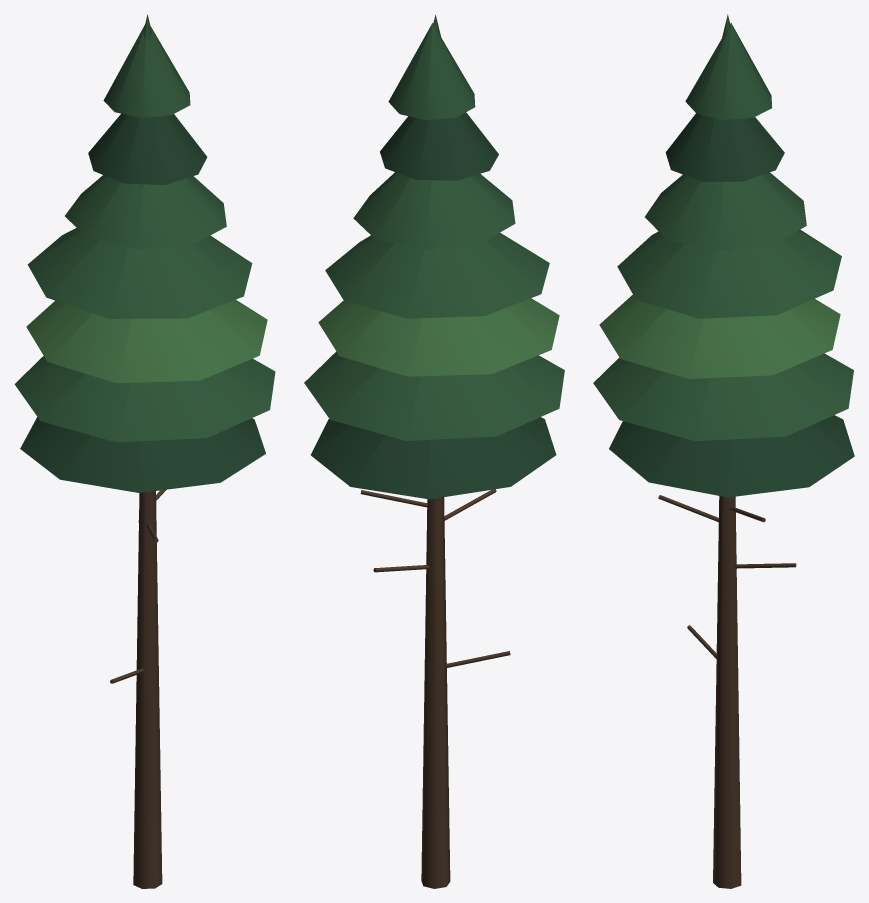
The model's file is EA05_conifer_pine.glb.
3 renders of one model, left to right at view 1: azimuth 30°, elevation 25°; view 2: azimuth 150°, elevation 25°; view 3: azimuth 270°, elevation 25°, orthographic.
Visible parts, largest first — view 1: branch_tier (×7), trunk; view 2: branch_tier (×7), trunk; view 3: branch_tier (×7), trunk.
Part boxes in pixels (x1,y1,x2,y2): branch_tier (×7): (14, 25, 275, 492); trunk: (133, 491, 162, 888); branch_tier (×7): (304, 23, 564, 499); trunk: (421, 497, 450, 888); branch_tier (×7): (593, 23, 854, 497); trunk: (713, 496, 741, 888).
Size of the model in its own units: 4.93 by 18.02 by 4.92.
